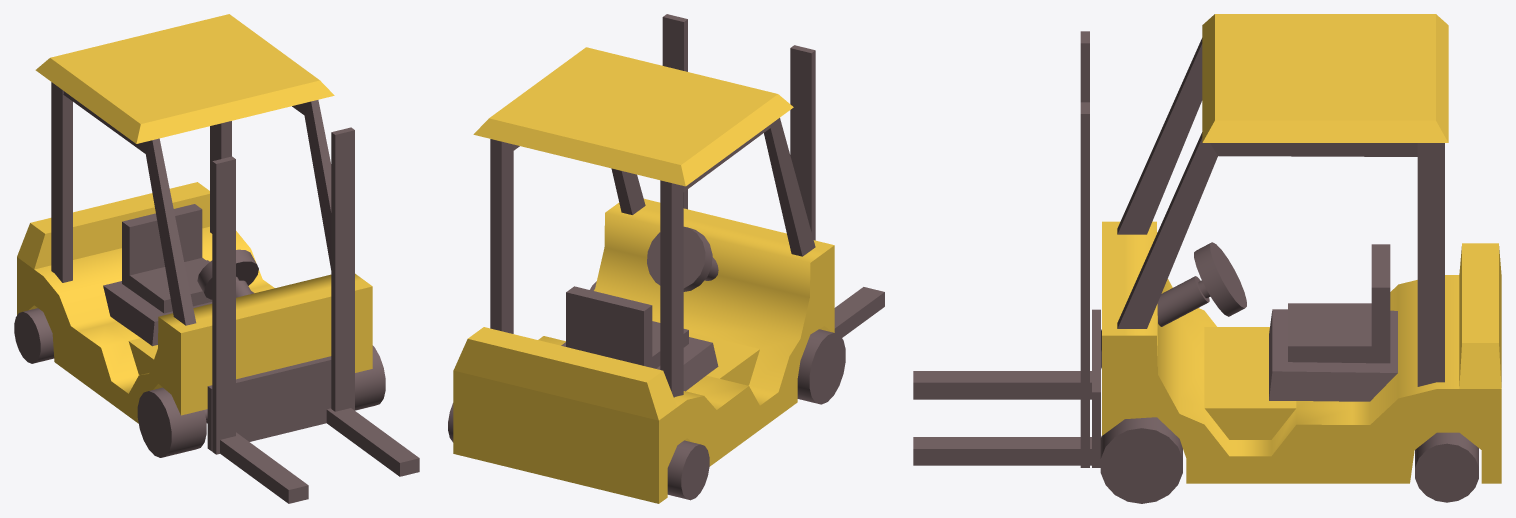
File: Forklift.fbx
3 views of the same model, side by side, from view 1: azimuth 30°, elevation 25°; view 2: azimuth 150°, elevation 25°; view 3: azimuth 270°, elevation 25° (orthographic). The views are drawn at different scales.
Visible parts, largest first — view 1: Forklift; view 2: Forklift; view 3: Forklift.
Part boxes in pixels (x1,y1,x2,y2): Forklift: (14, 14, 419, 503); Forklift: (448, 14, 884, 503); Forklift: (913, 14, 1501, 503).
Bounding box in the file's own units: 165 × 221 × 316.
